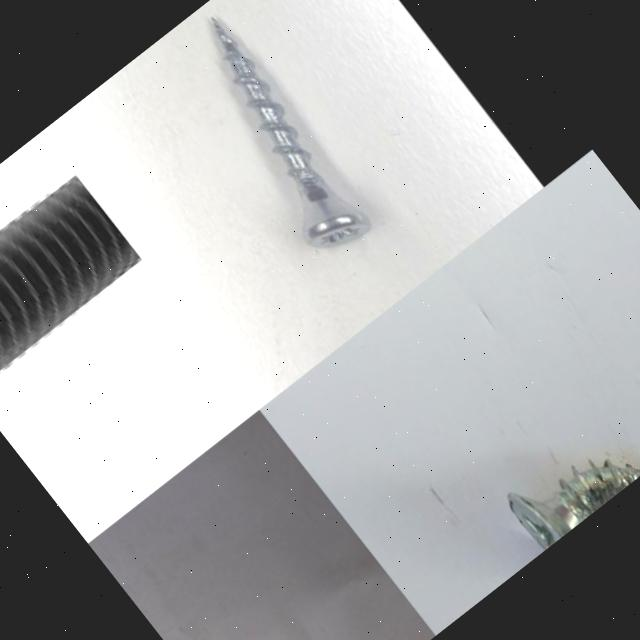Screw: (213, 18, 372, 249), (0, 172, 143, 373), (508, 460, 640, 550)
